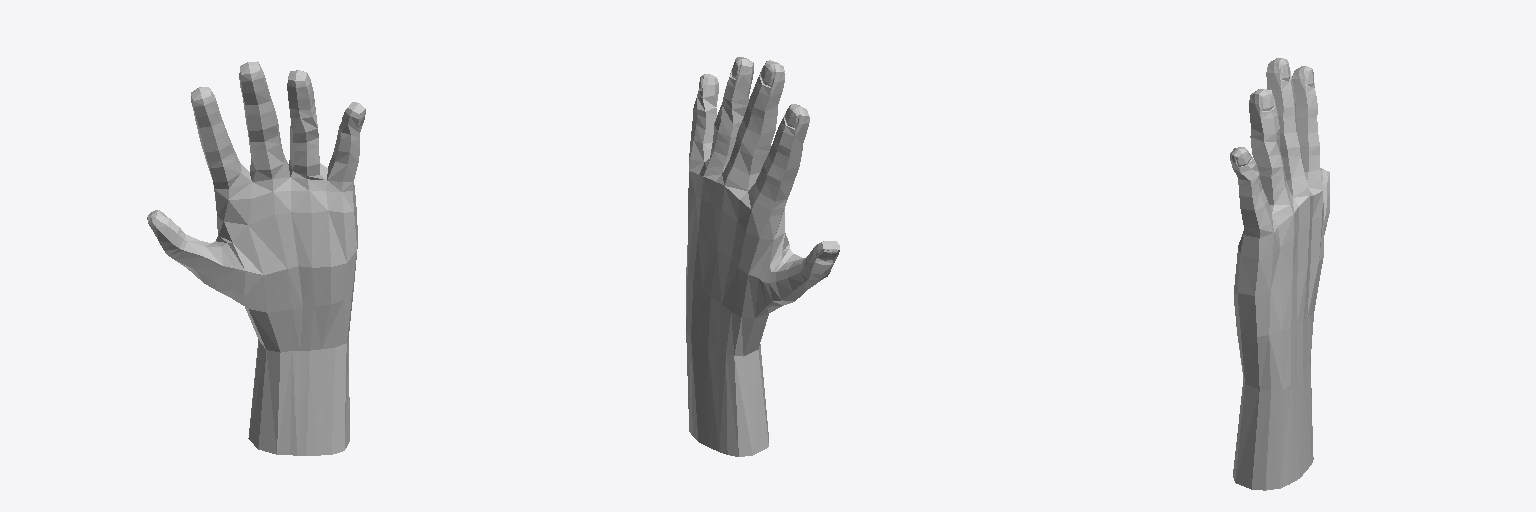
The model's file is handAnimated4_000107.obj.
3 renders of one model, left to right at view 1: azimuth 30°, elevation 25°; view 2: azimuth 150°, elevation 25°; view 3: azimuth 270°, elevation 25°, orthographic.
Parts seen in each view (by area): view 1: Cube.000_Cube.017_Detached_Detached; view 2: Cube.000_Cube.017_Detached_Detached; view 3: Cube.000_Cube.017_Detached_Detached.
Boxes of the visible parts, x1,y1,x2,y2 form: Cube.000_Cube.017_Detached_Detached: [147, 61, 365, 455]; Cube.000_Cube.017_Detached_Detached: [686, 57, 839, 456]; Cube.000_Cube.017_Detached_Detached: [1230, 58, 1329, 490].
Bounding box in the file's own units: 0.6401 × 1.33 × 0.3096.